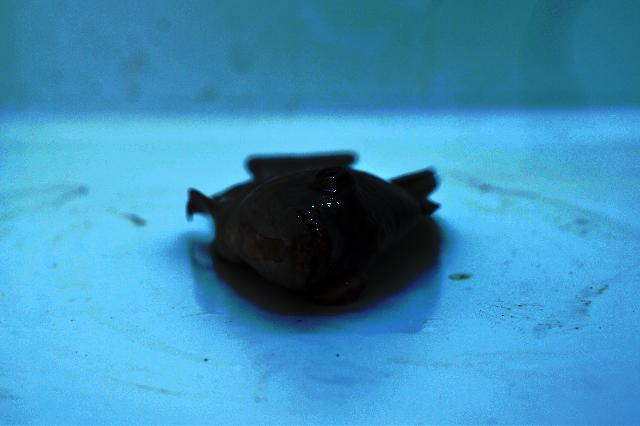Columnaris Disease: (189, 158, 436, 306)
